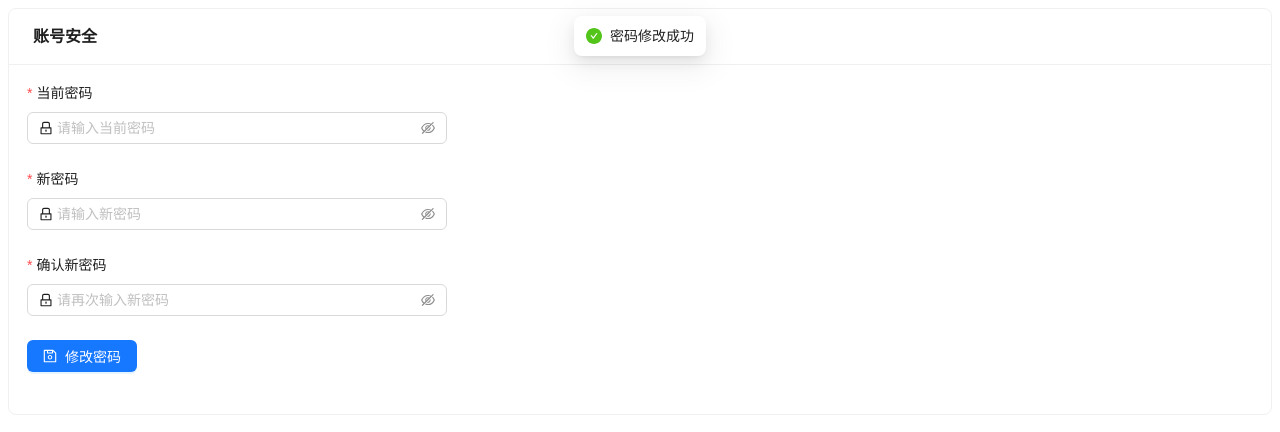
Test: ChangePasswordPanel › shows error when old password is wrong
The image size is (1280, 432).
Type "wrongOld" into the password field with placeholder "请输入当前密码".
click(237, 128); type("wrongOld")  # box x1=57 y1=117 x2=417 y2=139
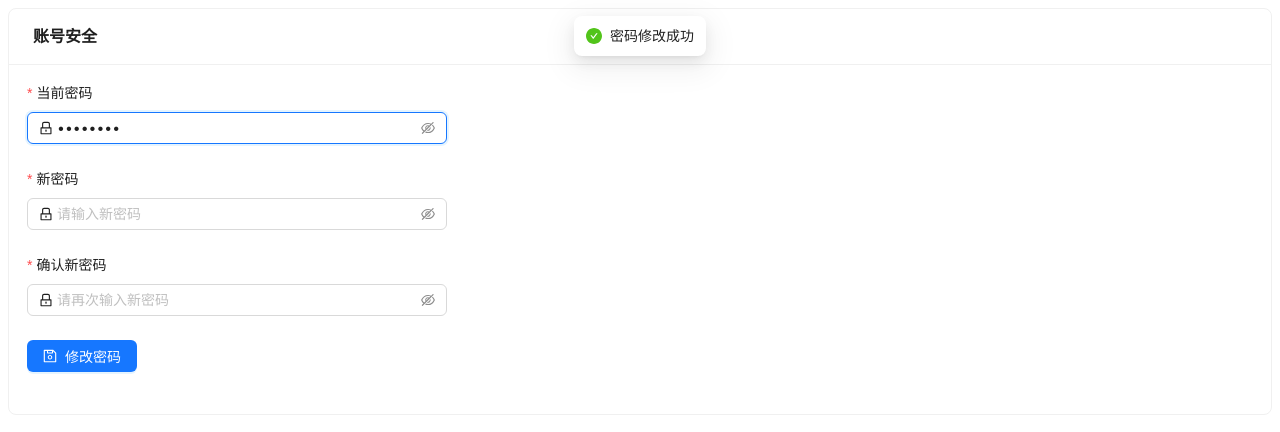
Type "newPass123" into the password field with placeholder "请输入新密码".
click(237, 214); type("newPass123")  # box x1=57 y1=203 x2=417 y2=225
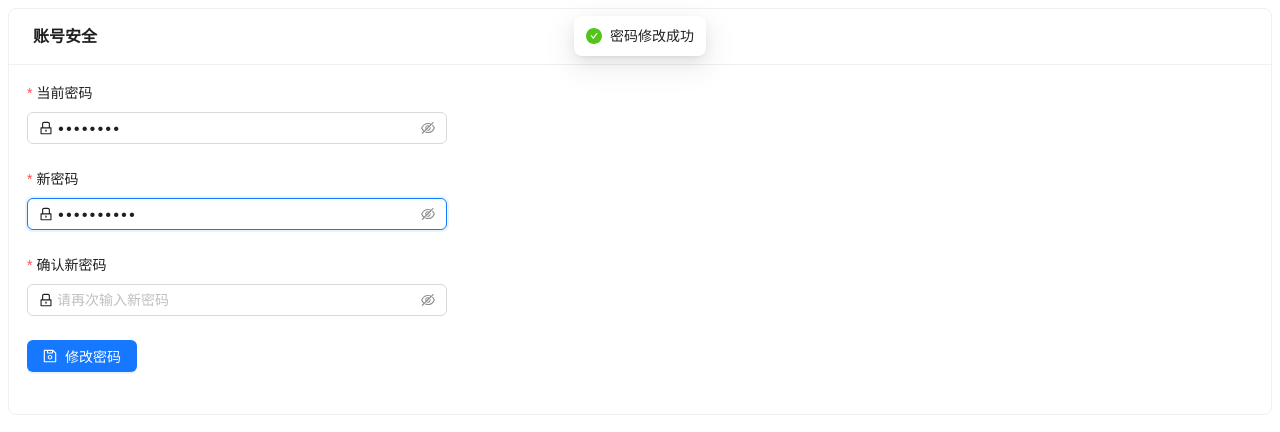
Type "newPass123" into the password field with placeholder "请再次输入新密码".
click(237, 300); type("newPass123")  # box x1=57 y1=289 x2=417 y2=311
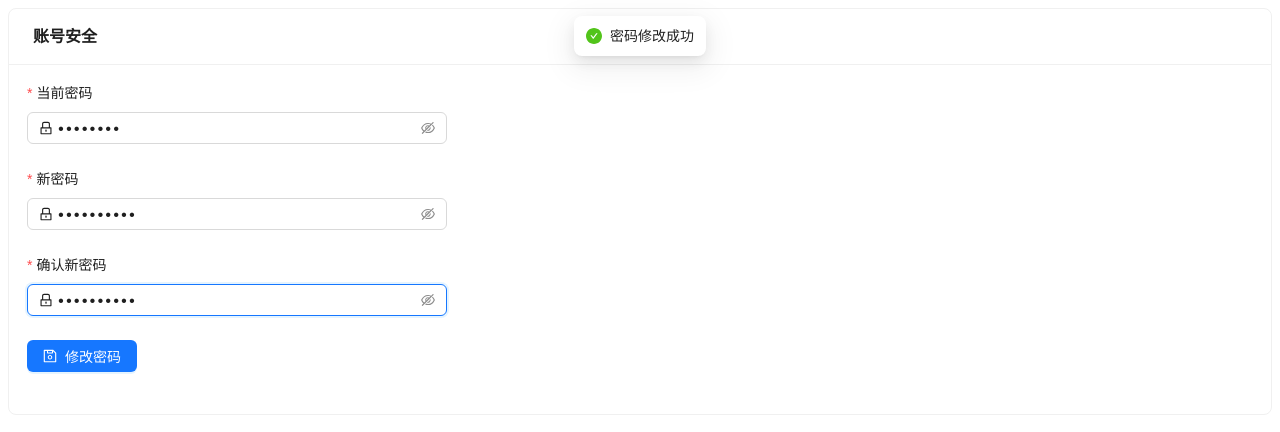
Click the button "修改密码".
click(82, 356)  # box x1=27 y1=340 x2=137 y2=372
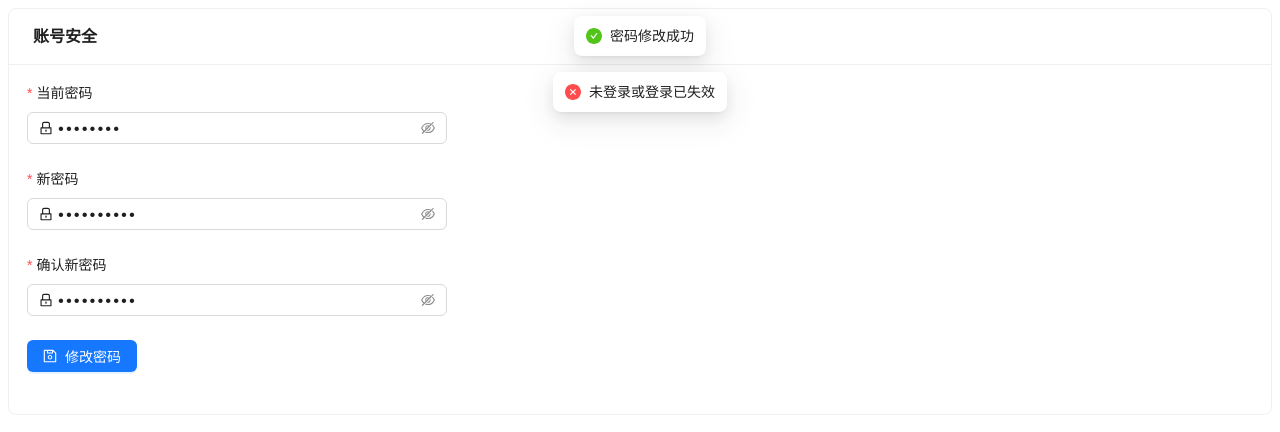
Now the element showing "未登录或登录已失效" is shown, box x1=565 y1=81 x2=715 y2=103
